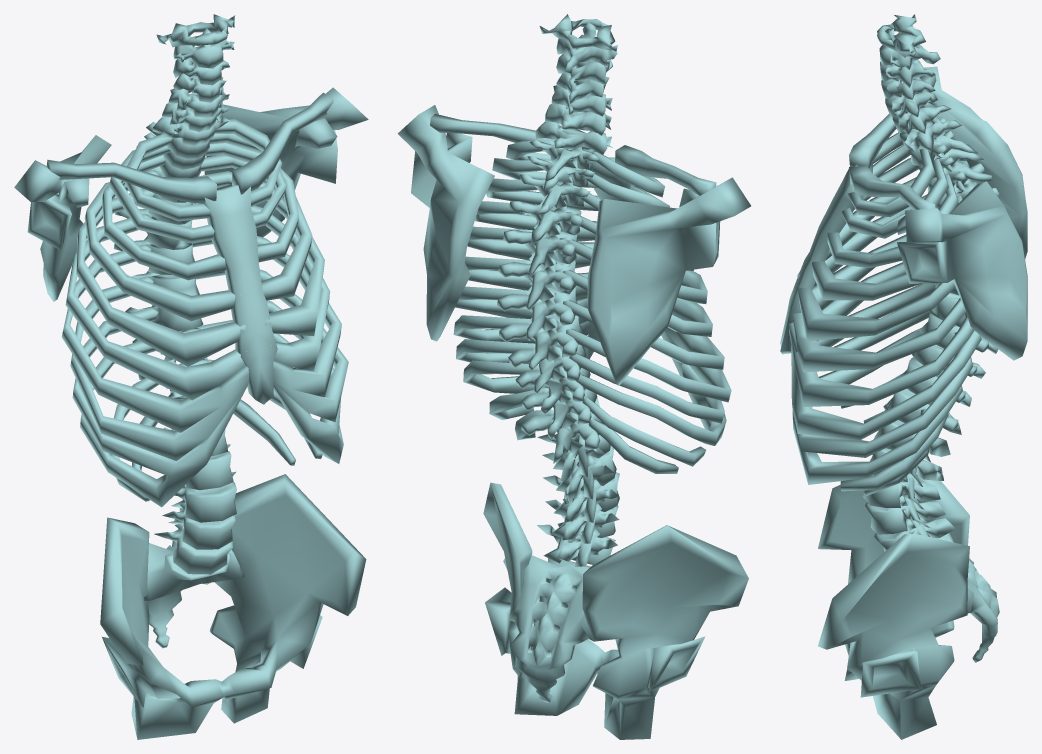
Rendered from Skelly_spine.fbx.
3 views of the same model, side by side, from view 1: azimuth 30°, elevation 25°; view 2: azimuth 150°, elevation 25°; view 3: azimuth 270°, elevation 25° (orthographic). The views are drawn at different scales.
Parts seen in each view (by area): view 1: Skelly_spine; view 2: Skelly_spine; view 3: Skelly_spine.
Boxes of the visible parts, bbox=[...] form: Skelly_spine: bbox=[14, 14, 368, 739]; Skelly_spine: bbox=[397, 14, 750, 739]; Skelly_spine: bbox=[780, 14, 1027, 739].
Bounding box in the file's own units: 38.91 × 77.21 × 25.32.
